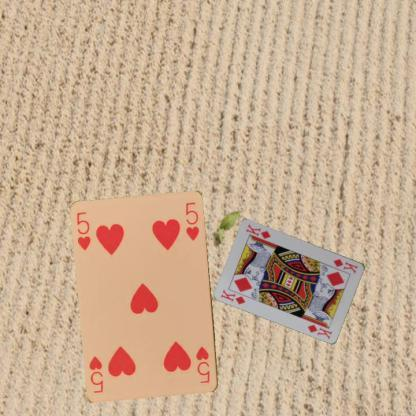5h: (74, 210, 92, 252), (194, 344, 212, 385)
Kd: (218, 286, 247, 306), (332, 256, 359, 275)
